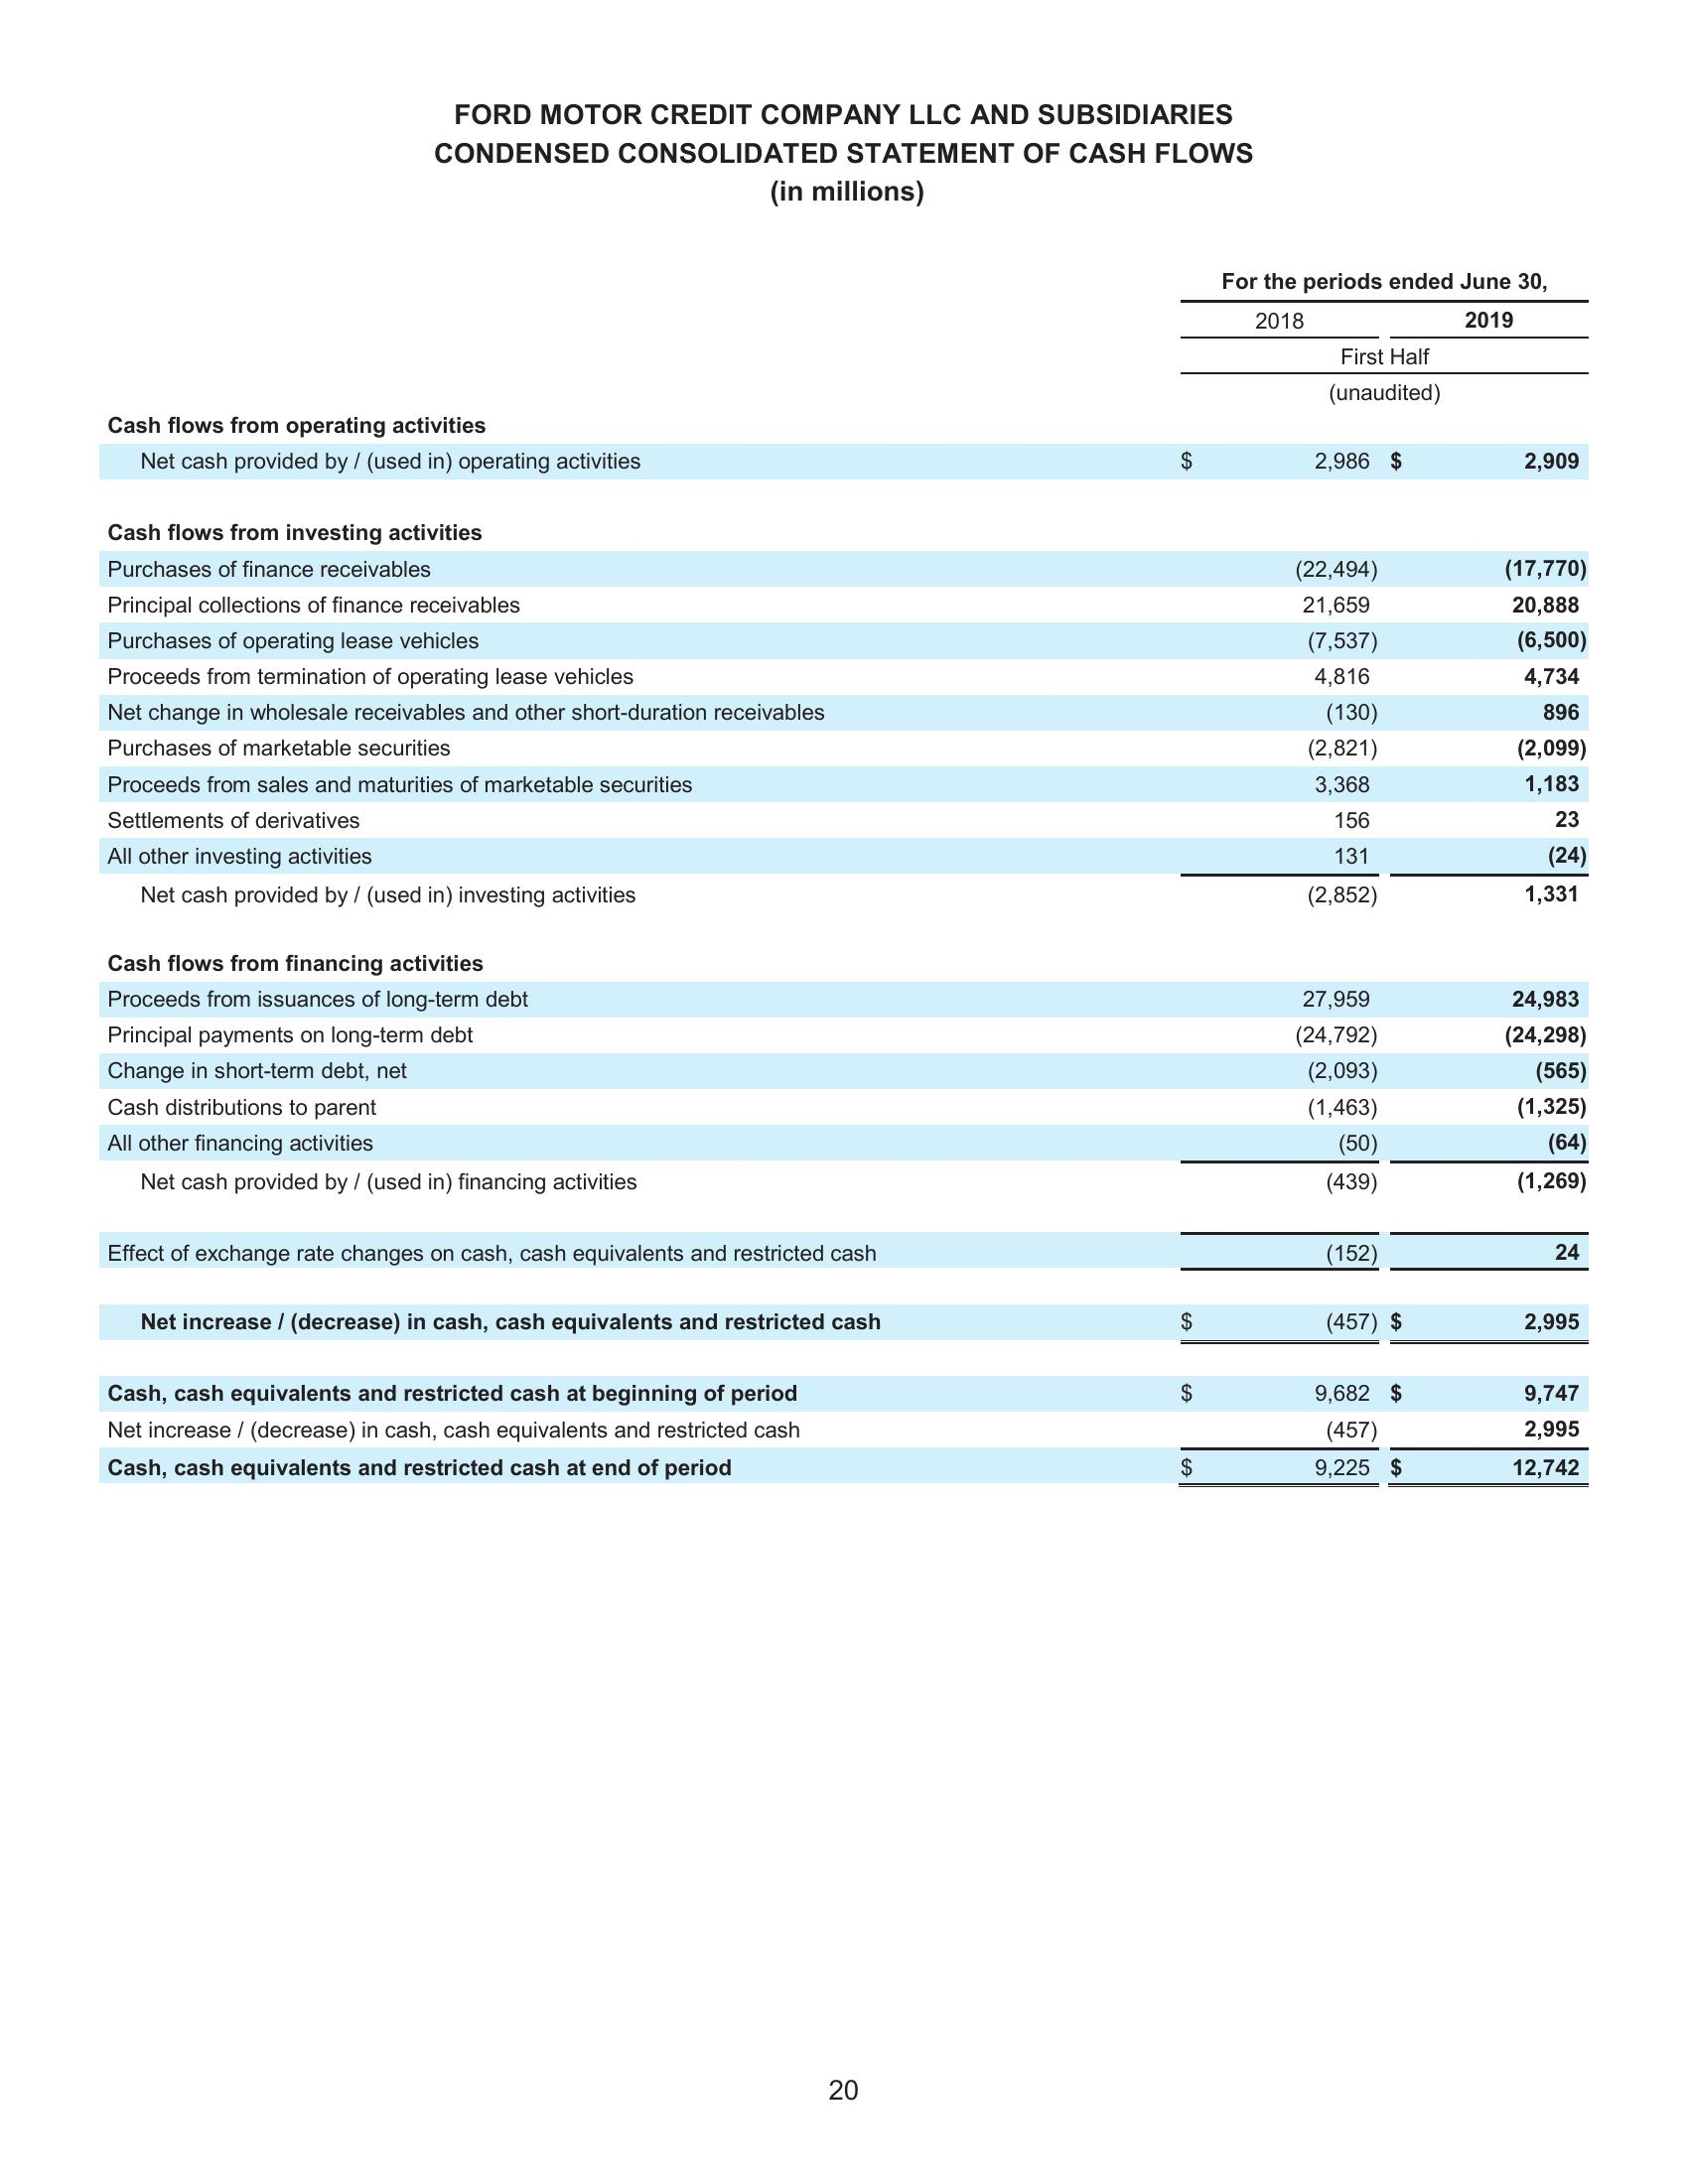table: (89, 262, 1601, 1494)
